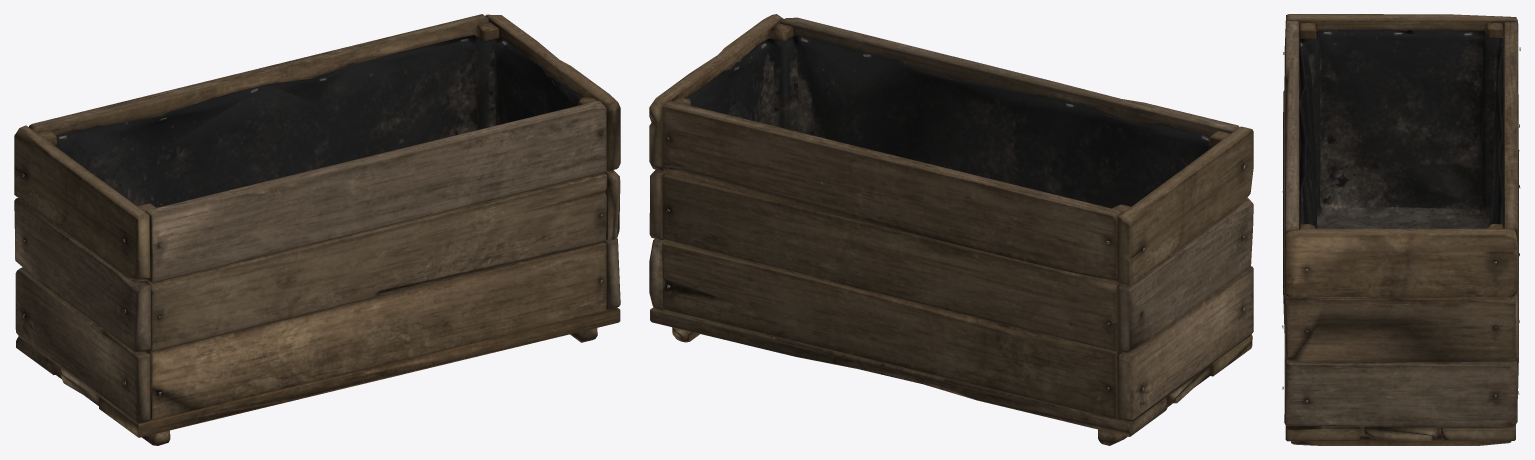
The model's file is planter_box_01.glb.
3 views of the same model, side by side, from view 1: azimuth 30°, elevation 25°; view 2: azimuth 150°, elevation 25°; view 3: azimuth 270°, elevation 25° (orthographic). The views are drawn at different scales.
Visible parts, largest first — view 1: planter_box_01; view 2: planter_box_01; view 3: planter_box_01.
Boxes of the visible parts, <box> form: planter_box_01: <box>14,14,620,445</box>; planter_box_01: <box>649,14,1253,445</box>; planter_box_01: <box>1282,14,1520,445</box>.
Bounding box in the file's own units: 0.9126 × 0.425 × 0.4135.
1 material, 1 textured.
